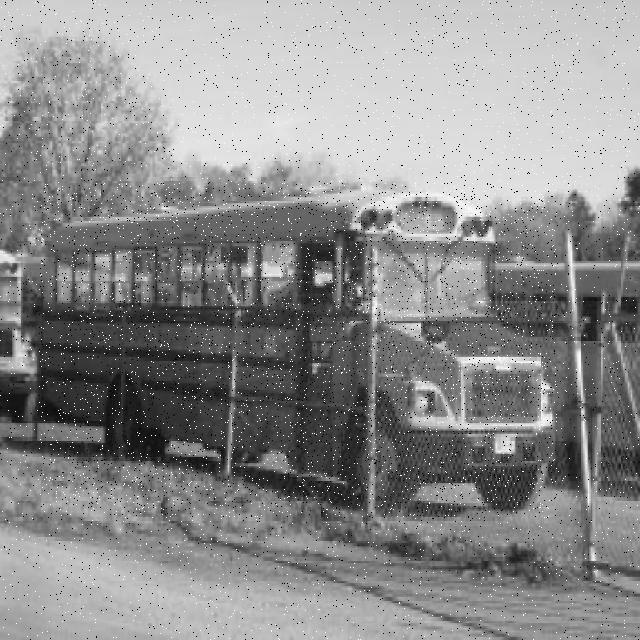Bus: (39, 183, 557, 518)
